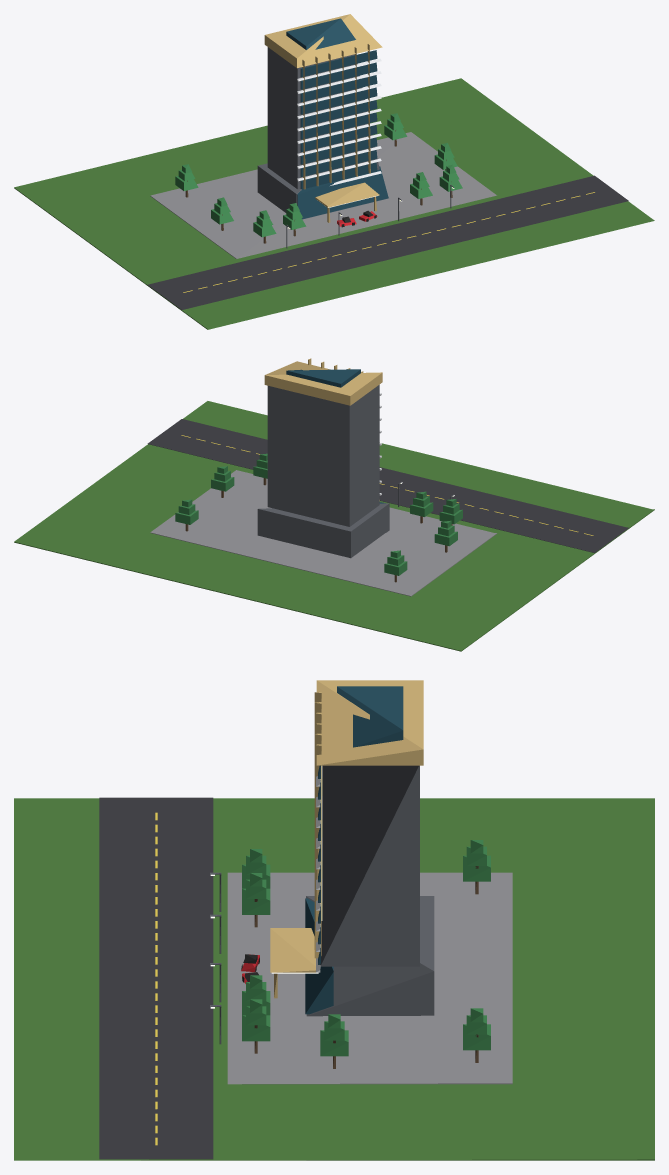
The model's file is 3dbuilding.glb.
3 renders of one model, top to bottom at view 1: azimuth 30°, elevation 25°; view 2: azimuth 150°, elevation 25°; view 3: azimuth 270°, elevation 25°, orthographic. The views are drawn at different scales.
Parts seen in each view (by area): view 1: Environment, Hotel_Building; view 2: Environment, Hotel_Building, Tree.005, Tree.004, Tree.006, Tree.001, Tree.007, Tree; view 3: Environment, Hotel_Building, Tree.003, Tree.001, Tree.007, Tree.005, Tree.004, Tree.002, Tree.
Part boxes in pixels (x1,y1,x2,y2): Environment: (14,78,654,329); Hotel_Building: (257,14,388,222); Environment: (14,401,654,651); Hotel_Building: (257,358,389,558); Tree.005: (175,499,198,531); Tree.004: (384,550,407,582); Tree.006: (434,520,457,552); Tree.001: (410,491,433,523); Tree.007: (211,466,234,497); Tree: (439,499,462,525); Environment: (14,797,654,1160); Hotel_Building: (270,680,434,1016); Tree.003: (242,999,270,1053); Tree.001: (242,873,270,927); Tree.007: (320,1014,348,1068); Tree.005: (463,1008,490,1062); Tree.004: (463,840,490,894); Tree.002: (242,975,270,1015); Tree: (242,849,270,888).
Size of the model in its own units: 120 by 42.1 by 90.
